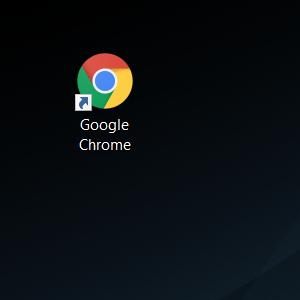chrome: (75, 52, 133, 111)
